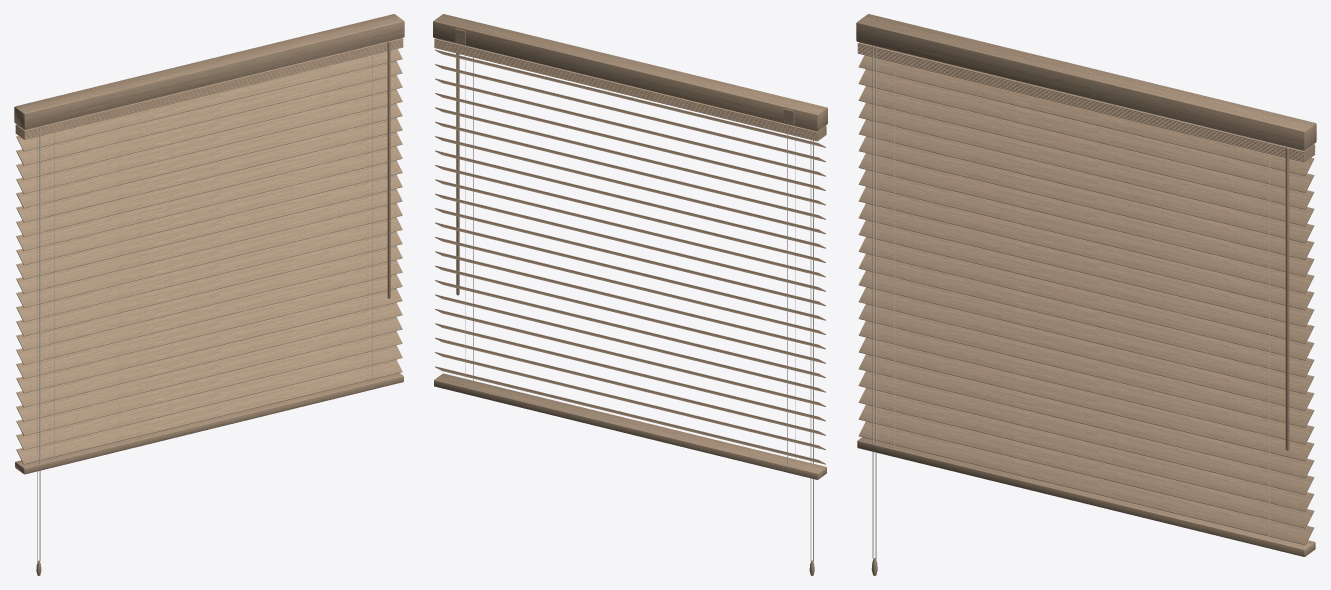
The model's file is veneciana_madera_140_c75.glb.
3 renders of one model, left to right at view 1: azimuth 30°, elevation 25°; view 2: azimuth 150°, elevation 25°; view 3: azimuth 330°, elevation 25°, orthographic. The views are drawn at different scales.
Parts seen in each view (by area): view 1: veneciana_madera_140_c75; view 2: veneciana_madera_140_c75; view 3: veneciana_madera_140_c75.
Boxes of the visible parts, left/top/right/bottom form: veneciana_madera_140_c75: left=14, top=14, right=404, bottom=575; veneciana_madera_140_c75: left=433, top=14, right=827, bottom=575; veneciana_madera_140_c75: left=856, top=14, right=1316, bottom=575.
Size of the model in its own units: 1.2 by 1.4 by 0.0639.
Materials: 2 (1 with a texture image).
